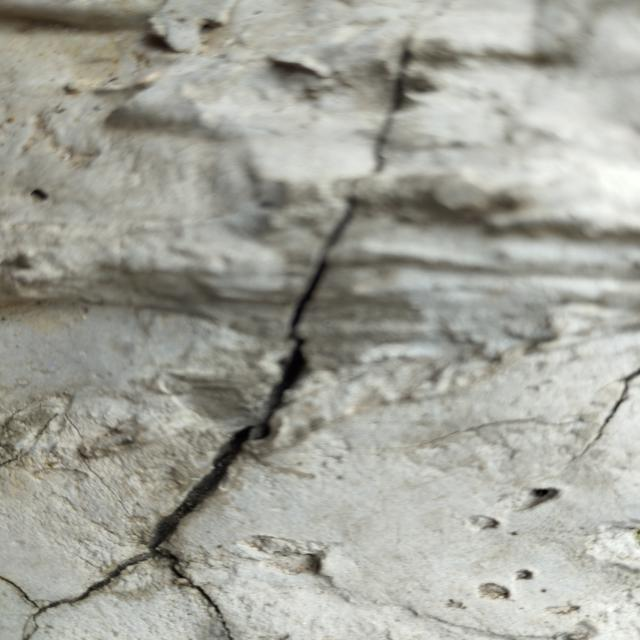branched cracks: (0, 33, 420, 639), (430, 365, 639, 461)
